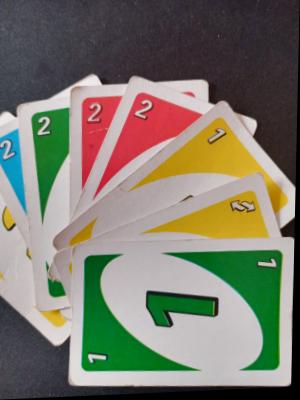blue: (0, 116, 28, 245)
green: (68, 244, 295, 388), (15, 97, 74, 261)
num_1: (203, 124, 236, 154), (250, 255, 286, 280)
num_2: (32, 114, 64, 141), (0, 132, 20, 165)
reverse: (226, 197, 266, 220)
yellow: (84, 177, 284, 304)
